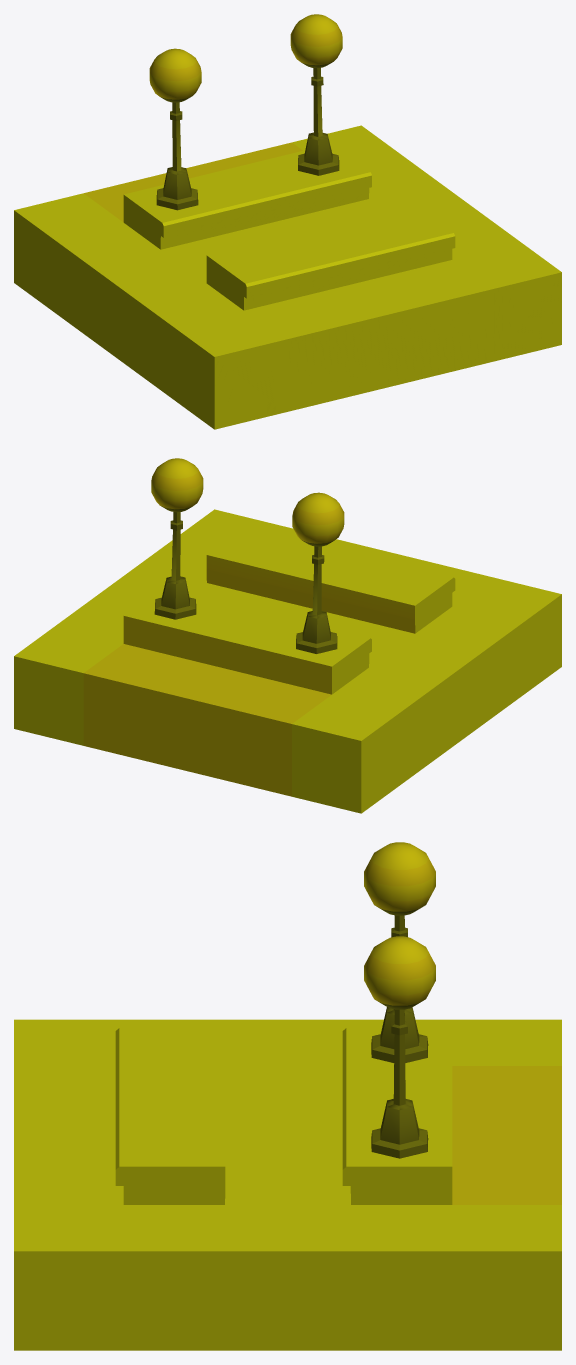
The model's file is train_station.glb.
3 renders of one model, top to bottom at view 1: azimuth 30°, elevation 25°; view 2: azimuth 150°, elevation 25°; view 3: azimuth 270°, elevation 25°, orthographic. The views are drawn at different scales.
Bounding box in the file's own units: 4.5 × 3.1 × 4.5.
1 material, 1 textured.
